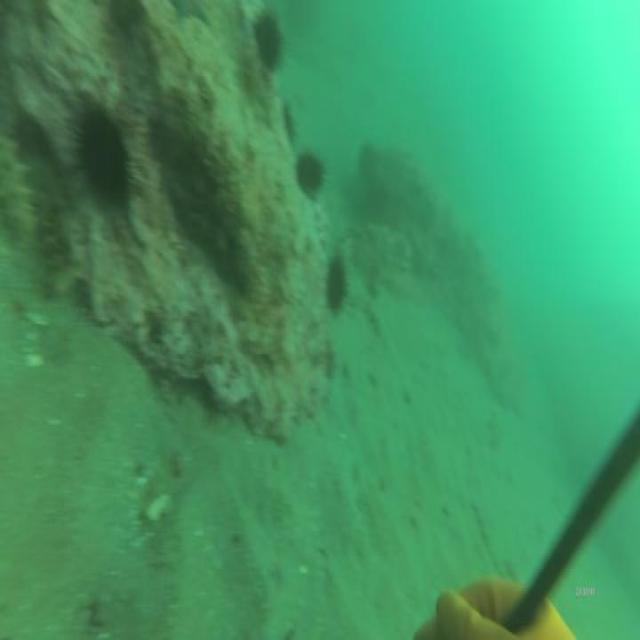echinus: (61, 87, 147, 224), (250, 8, 288, 73), (293, 147, 330, 204), (326, 246, 351, 321), (108, 6, 152, 36)
holothurian: (0, 128, 42, 248)
starfish: (168, 0, 212, 28)
